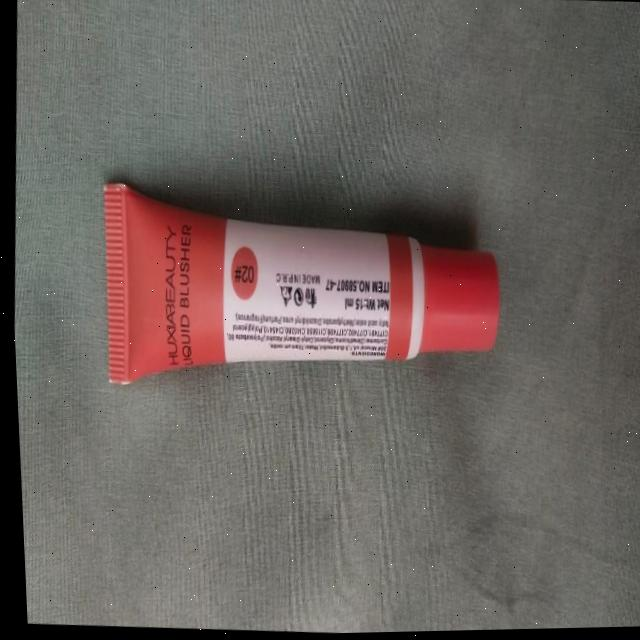blush: (99, 189, 502, 404)
